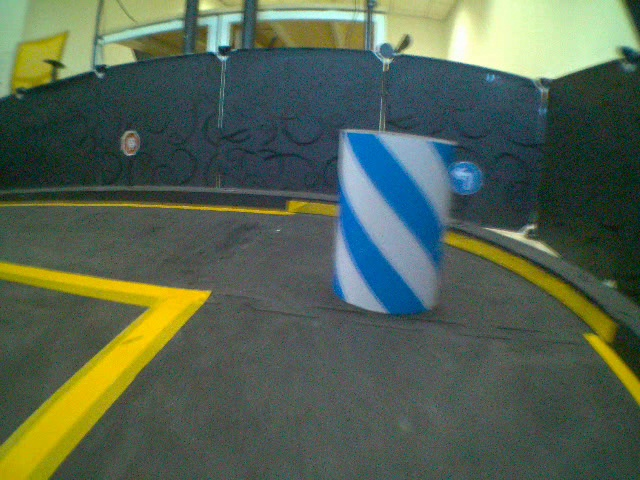bucket: (334, 130, 443, 316)
